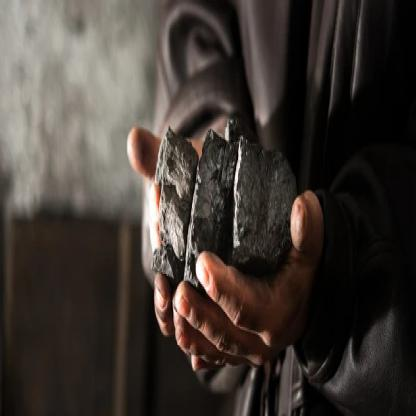Sedimentary_coal: (240, 127, 292, 258), (191, 128, 230, 258), (155, 111, 188, 259)
